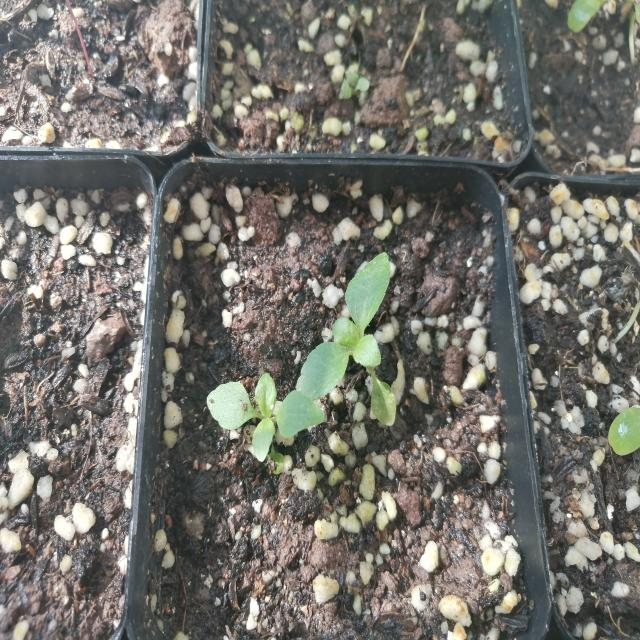billygoat_weed: (297, 244, 420, 425), (194, 358, 324, 455)
